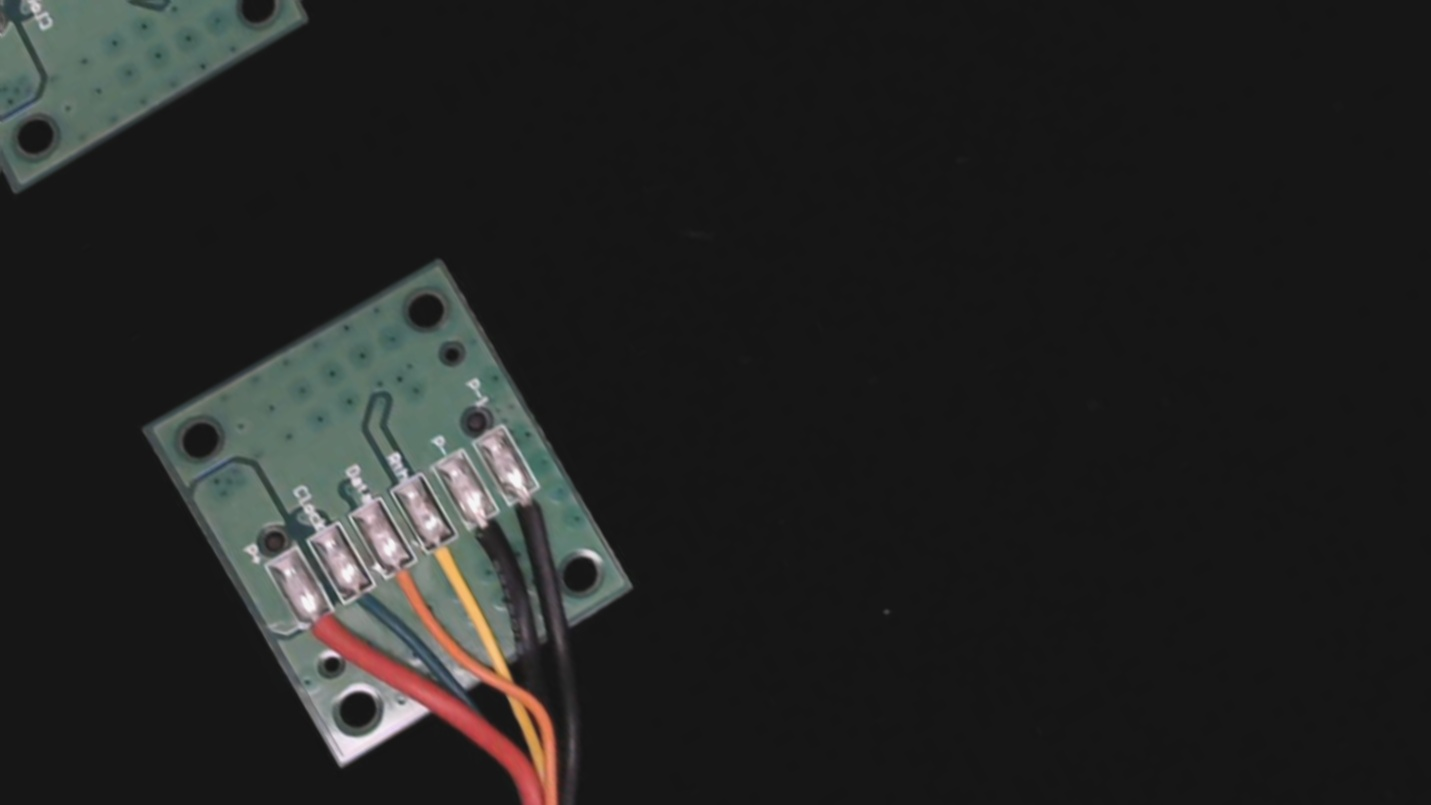Black: (448, 488, 535, 585)
Black1: (493, 462, 575, 552)
Green: (324, 560, 409, 654)
Orange: (367, 537, 450, 632)
Red: (282, 586, 366, 680)
Yellow: (408, 513, 495, 610)
